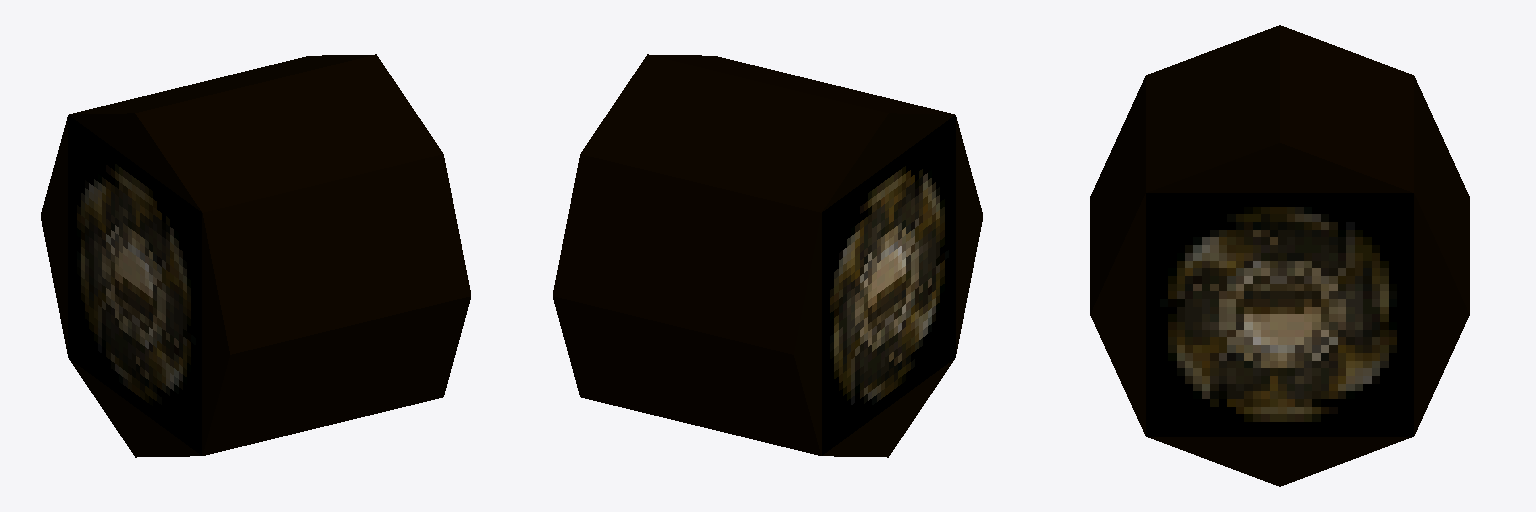
3 renders of one model, left to right at view 1: azimuth 30°, elevation 25°; view 2: azimuth 150°, elevation 25°; view 3: azimuth 270°, elevation 25°, orthographic.
Visible parts, largest first — view 1: WheelRearR; view 2: WheelRearR; view 3: WheelRearR.
Boxes of the visible parts, x1,y1,x2,y2 form: WheelRearR: [41, 54, 470, 457]; WheelRearR: [553, 54, 982, 457]; WheelRearR: [1090, 25, 1469, 486].
Bounding box in the file's own units: 0.8578 × 1.17 × 1.17.
Materials: 2 (1 with a texture image).